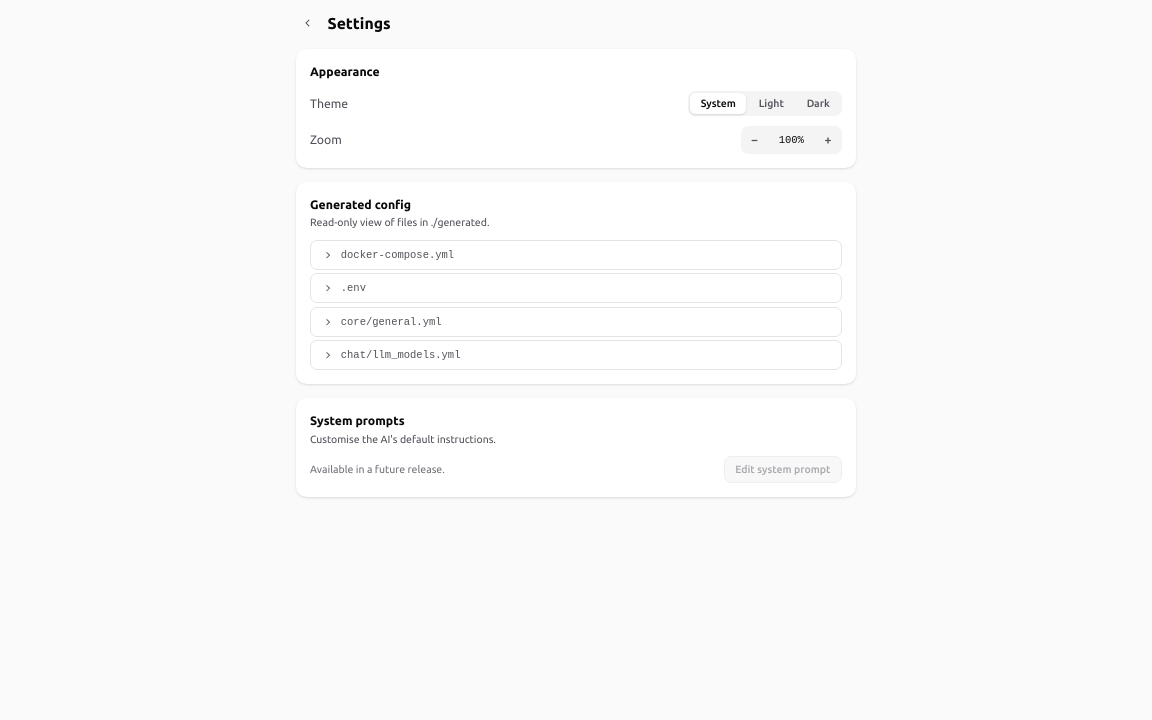
settings/+page.svelte › copy failure shows an error toast
Click the button with test id "toggle-.env".
click(328, 288)  # box [311, 274, 841, 302]
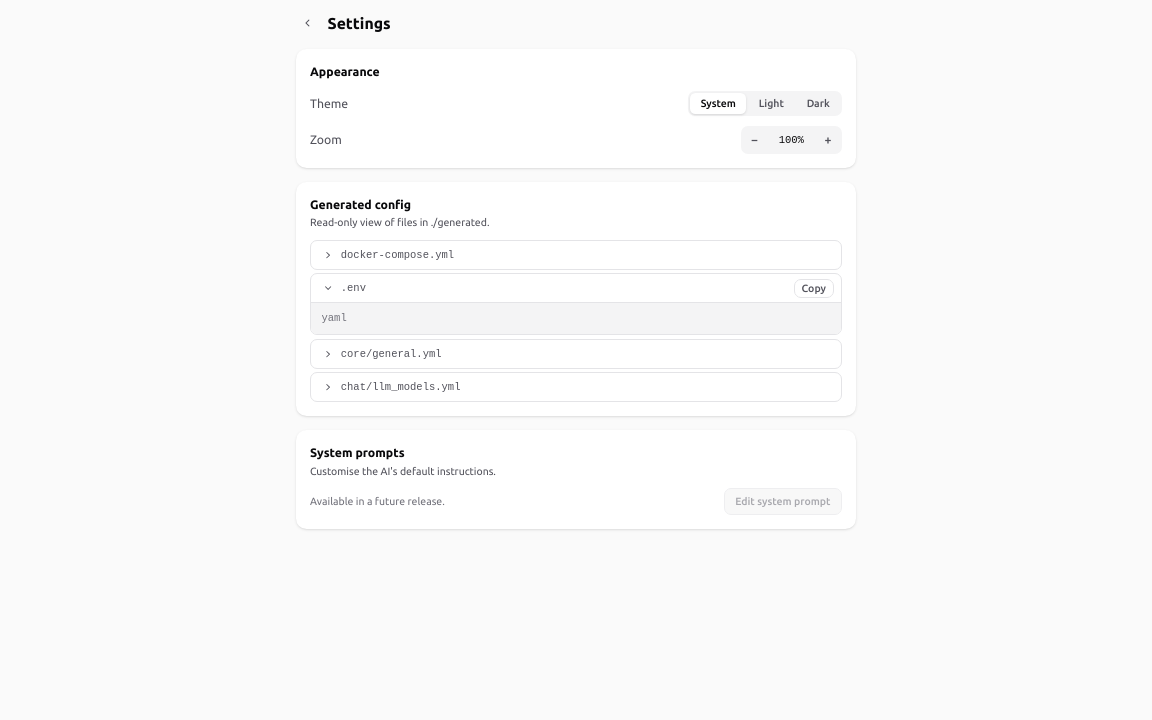
expect the button with test id "copy-.env" is shown: met
Click the button with test id "copy-.env".
click(814, 288)  # box [794, 278, 834, 298]
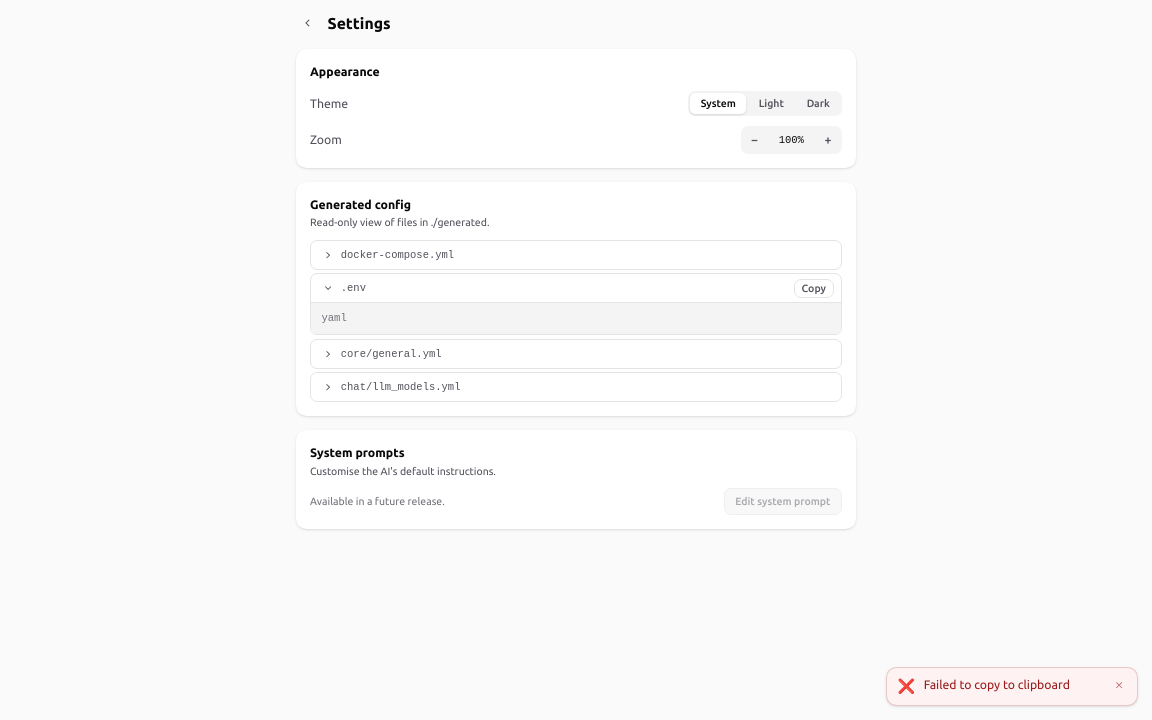
expect the message "❌ Failed to copy to clipboard" is shown: met, box [886, 667, 1138, 706]
